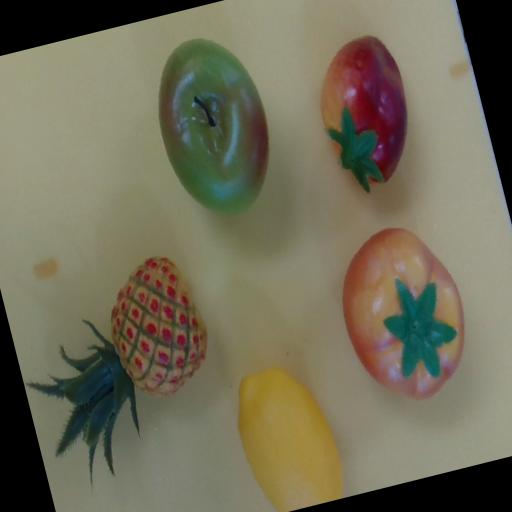apple: (151, 32, 275, 219)
lemon: (225, 357, 349, 512)
mango: (304, 30, 429, 199)
pineapple: (4, 241, 243, 491)
tomato: (303, 213, 502, 417)
